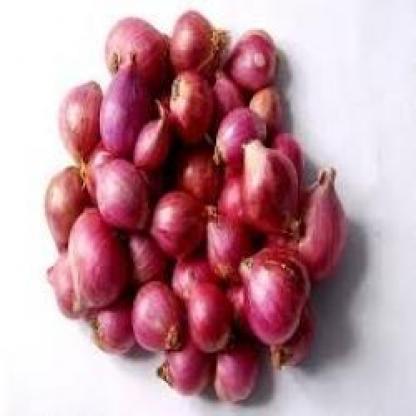--: (35, 4, 360, 402), (228, 245, 313, 350), (61, 208, 137, 316), (125, 274, 195, 364), (93, 58, 152, 156)
